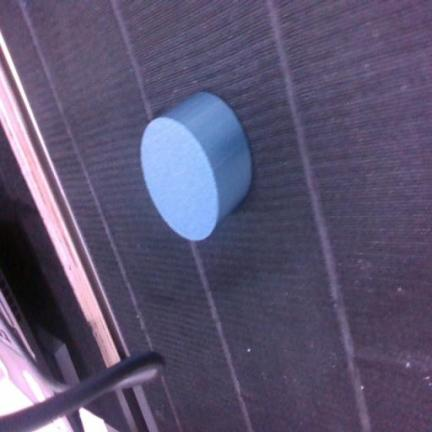cylinder: (140, 92, 251, 240)
